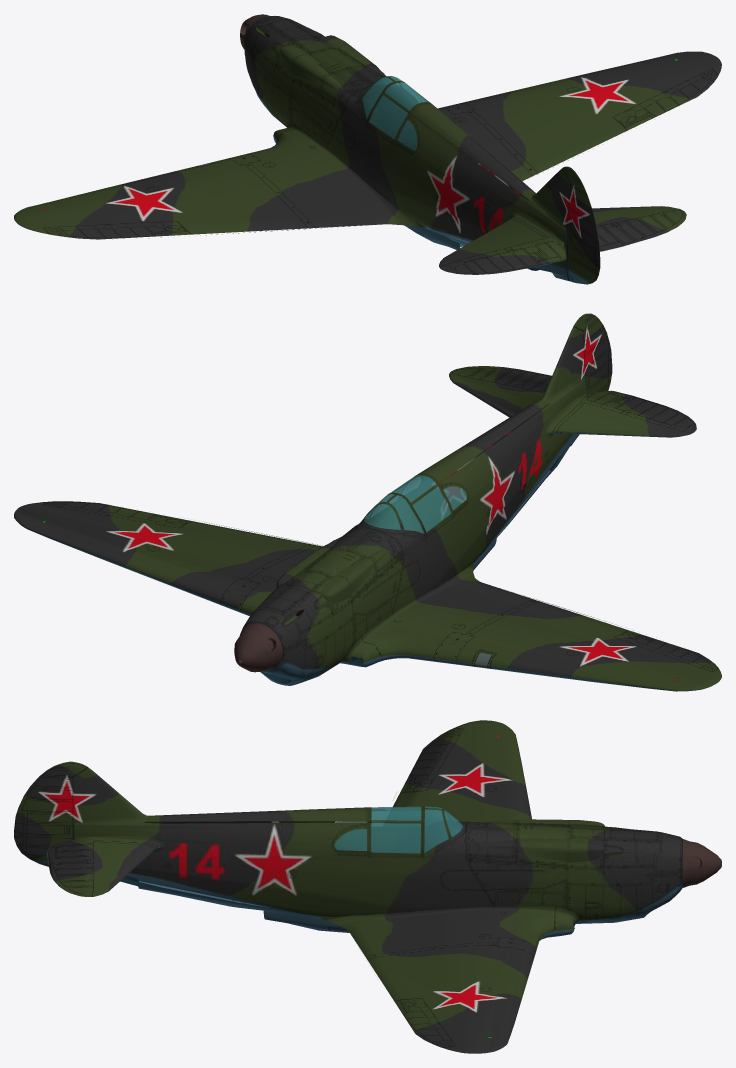
The model's file is lagg3LOD0.glb.
3 views of the same model, one above another, from view 1: azimuth 30°, elevation 25°; view 2: azimuth 150°, elevation 25°; view 3: azimuth 270°, elevation 25° (orthographic). The views are drawn at different scales.
Parts seen in each view (by area): view 1: Line_R02-FACES.001; view 2: Line_R02-FACES.001; view 3: Line_R02-FACES.001.
Part boxes in pixels (bbox=[...]): Line_R02-FACES.001: bbox=[14, 14, 721, 284]; Line_R02-FACES.001: bbox=[14, 313, 721, 691]; Line_R02-FACES.001: bbox=[14, 720, 721, 1053].
Size of the model in its own units: 12.87 by 3.01 by 11.56.
Materials: 16 (10 with a texture image).
